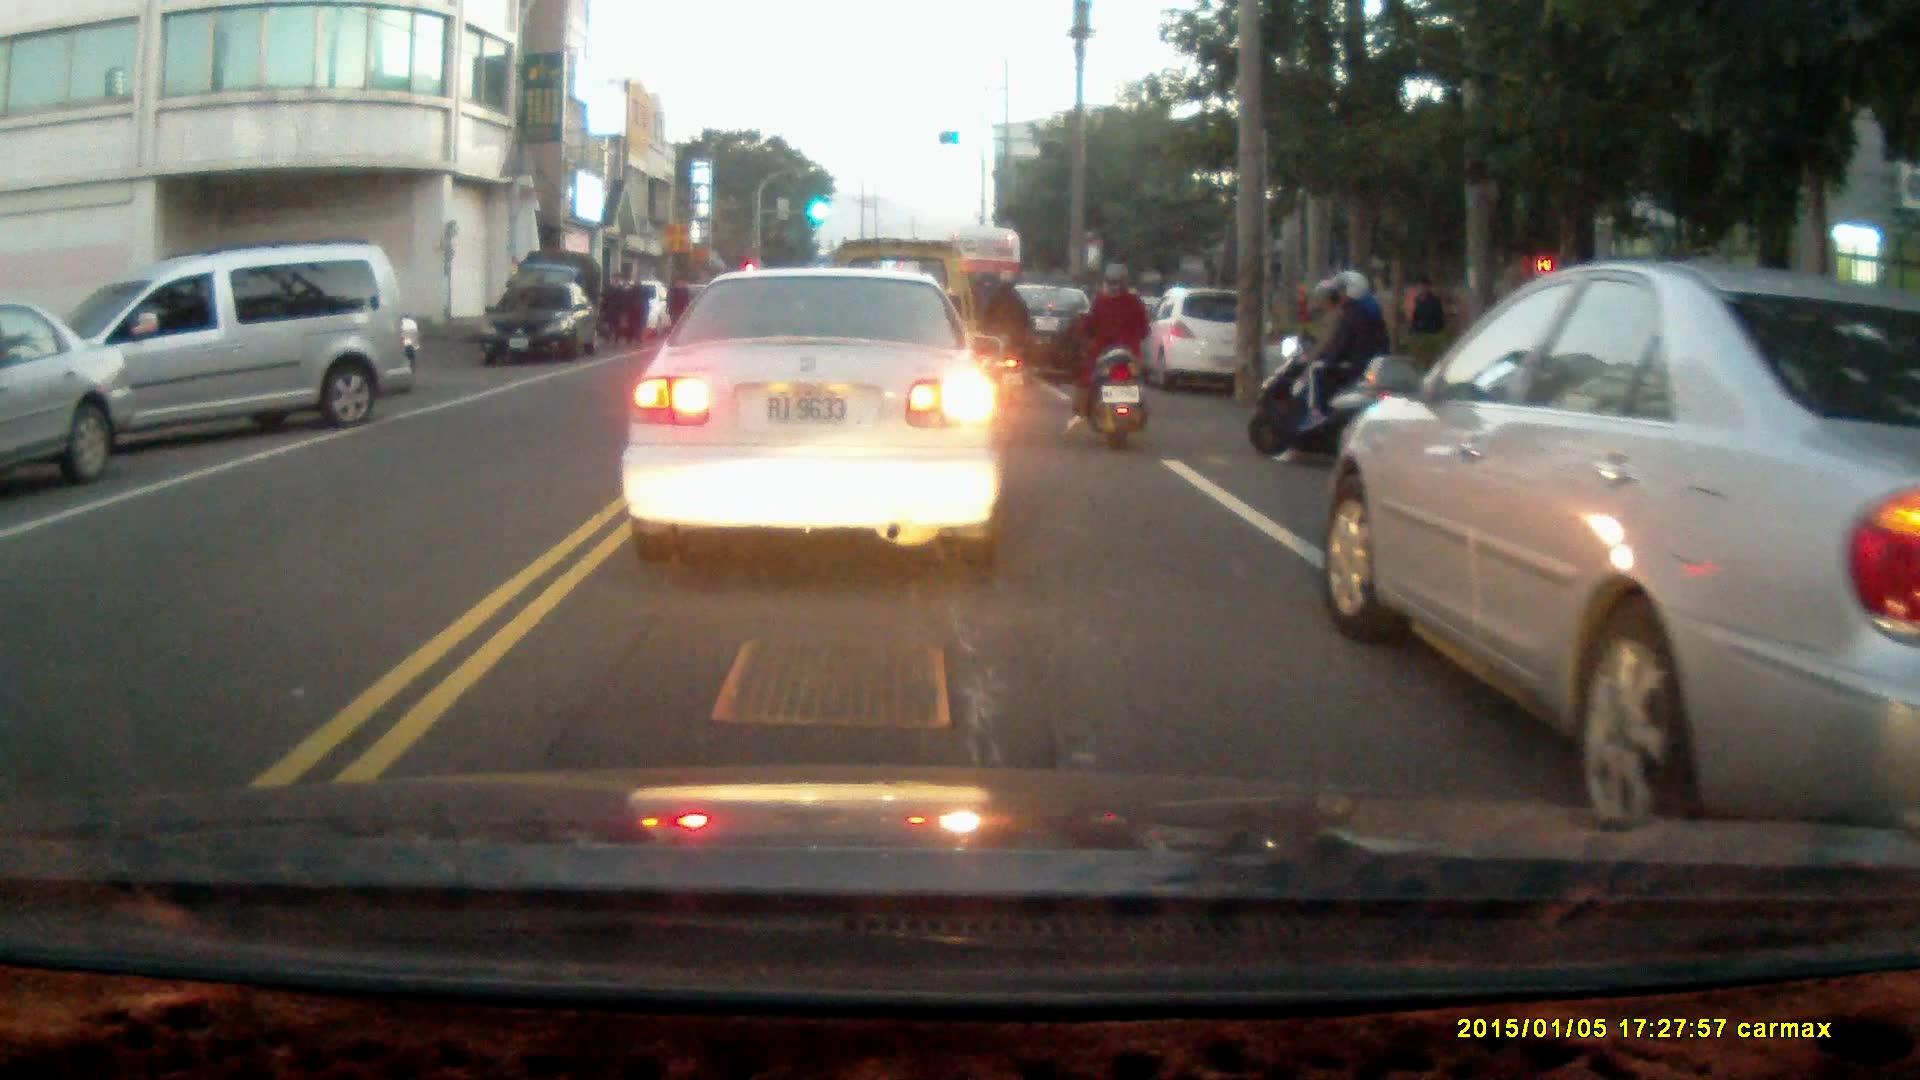pedestrian: (1406, 275, 1441, 364), (598, 272, 627, 351), (621, 272, 648, 350), (663, 273, 691, 342)
rider: (1247, 266, 1398, 466), (1056, 261, 1152, 448), (965, 270, 1030, 395)
vehicle: (1323, 256, 1920, 821), (630, 269, 1008, 579), (34, 247, 406, 460), (1, 301, 133, 485), (1139, 286, 1278, 398), (972, 285, 1112, 387), (486, 279, 606, 366)
